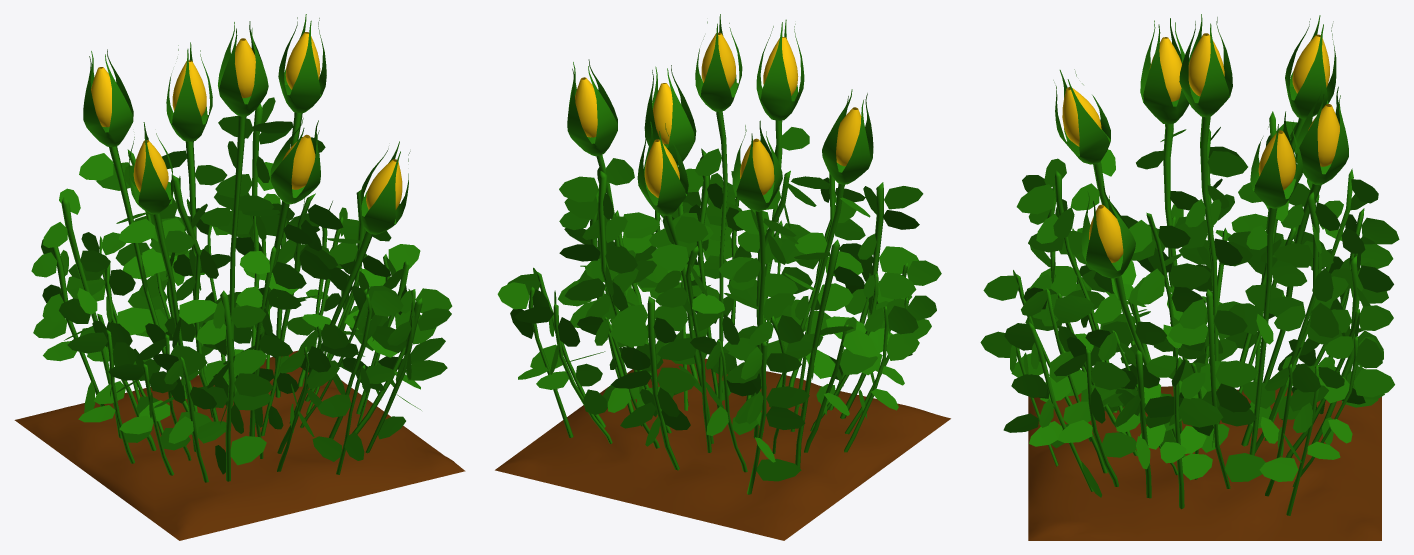
The model's file is yellow-rose-p4-leaf.glb.
The picture shows the model from 3 angles, left to right: view 1: azimuth 30°, elevation 25°; view 2: azimuth 150°, elevation 25°; view 3: azimuth 270°, elevation 25°; orthographic projection. The views are drawn at different scales.
Visible parts, largest first — view 1: 4_nft_out_of_bloom; view 2: 4_nft_out_of_bloom; view 3: 4_nft_out_of_bloom.
Boxes of the visible parts, box(x1,y1,x2,y2) form: 4_nft_out_of_bloom: box(14, 14, 465, 540); 4_nft_out_of_bloom: box(495, 14, 950, 540); 4_nft_out_of_bloom: box(980, 14, 1399, 540).
Size of the model in its own units: 0.862 by 0.9812 by 0.8292.
